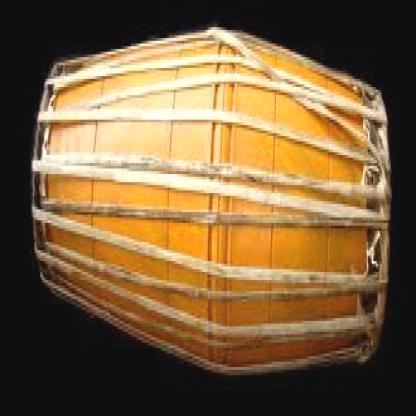Mridangam: (20, 15, 401, 393)
